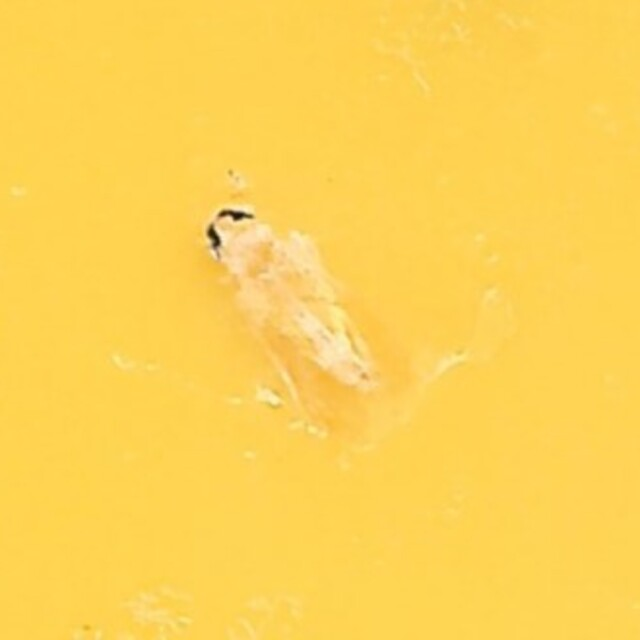Hemiptera: (194, 197, 446, 443)
